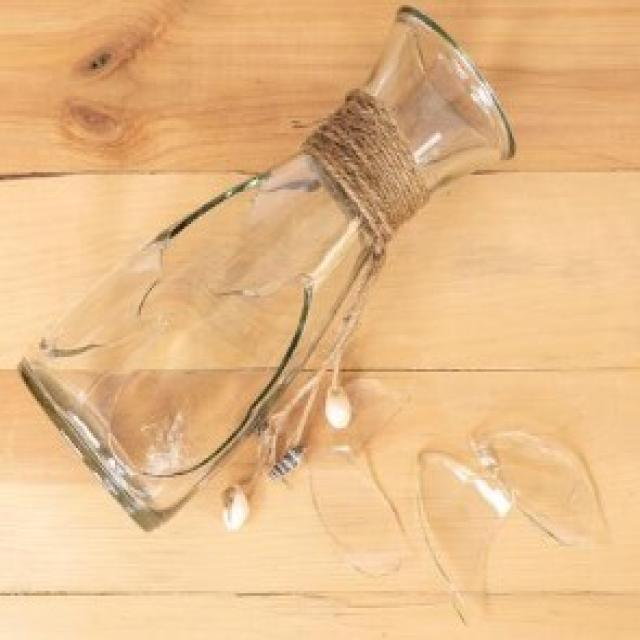electronic: (16, 7, 518, 536)
